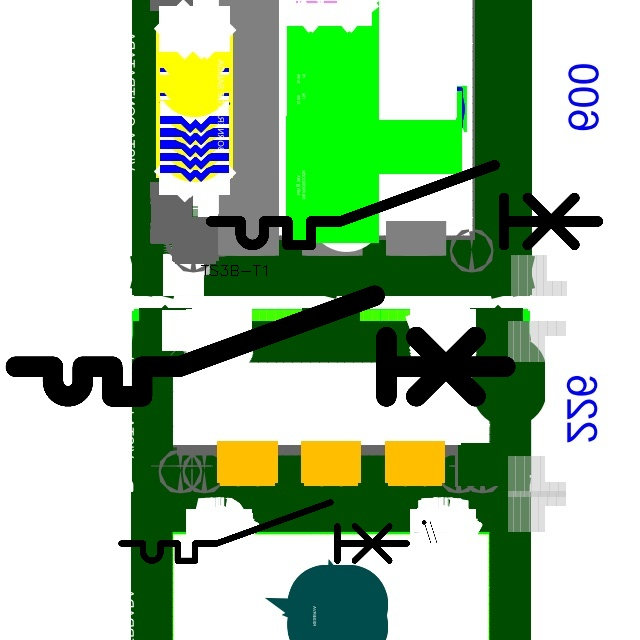interruptor_termomagnetico: (3, 283, 518, 409), (201, 155, 608, 255), (114, 495, 414, 568)
